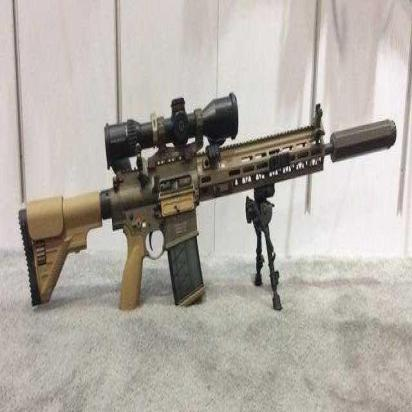Gun: (13, 58, 404, 349)
